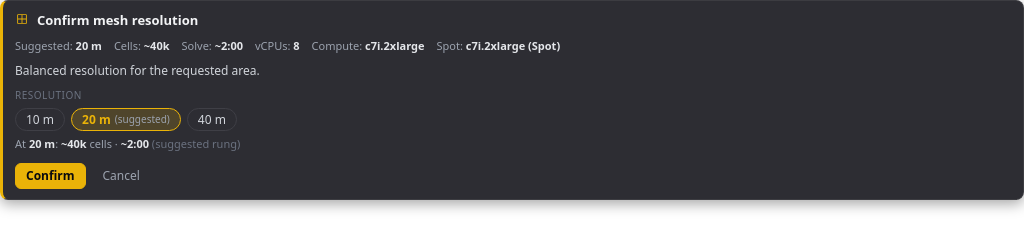
Test case: ResolutionPickerCard - lock + fold after a decision › folds to the compact summary and cannot be re-answered after Confirm
This screenshot has width=1024, height=229.
Click the button with test id "resolution-picker-confirm": (50, 176) x1=15 y1=163 x2=86 y2=189
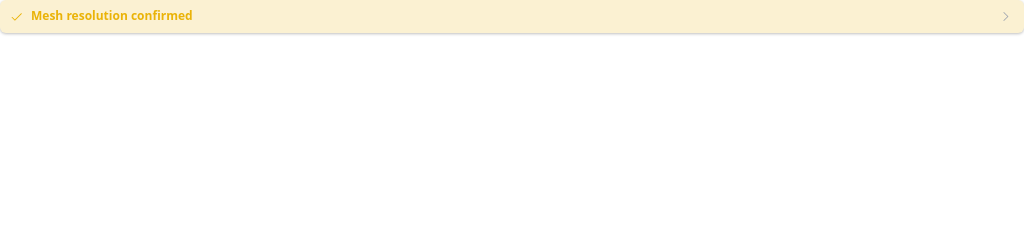
Expected: the button with test id "resolution-picker-confirm" is gone
Expected: the element with test id "resolution-picker-chips" is gone
Expected: the text with test id "resolution-picker-resolved" reads "Mesh resolution confirmed", x1=31 y1=7 x2=193 y2=24
